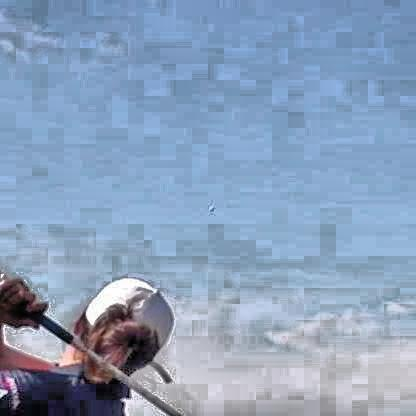golfball: (206, 203, 211, 210)
